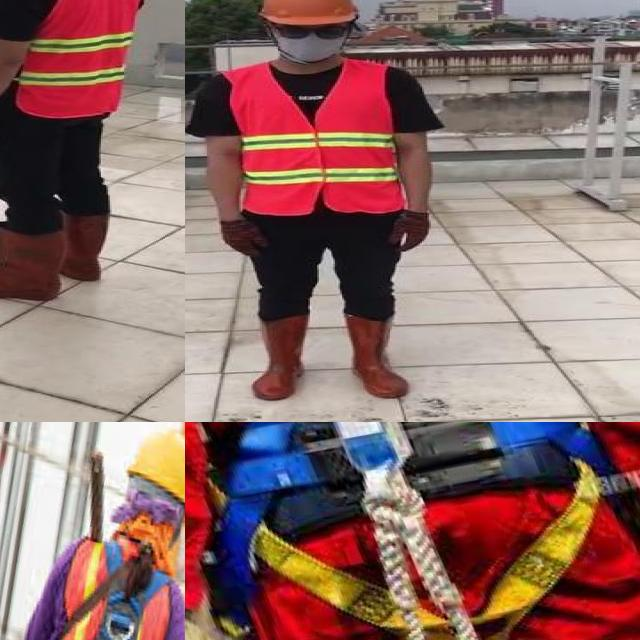Harness: (215, 422, 613, 640), (90, 541, 176, 640)
boots: (344, 311, 409, 399), (250, 317, 314, 399), (0, 226, 65, 299), (53, 211, 112, 281)
face_mask: (266, 18, 354, 61)
glasses: (270, 17, 352, 43)
hand_glove: (220, 220, 268, 259), (390, 212, 429, 252)
head_helmet: (263, 0, 356, 24)
person: (186, 0, 453, 406), (0, 0, 141, 307)
vest: (232, 60, 399, 215), (17, 0, 141, 117)
